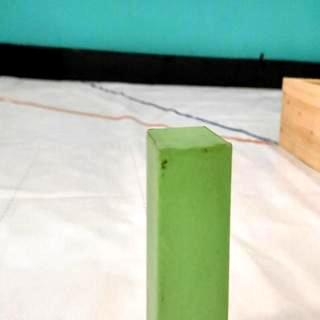greenbox: (142, 121, 236, 320)
